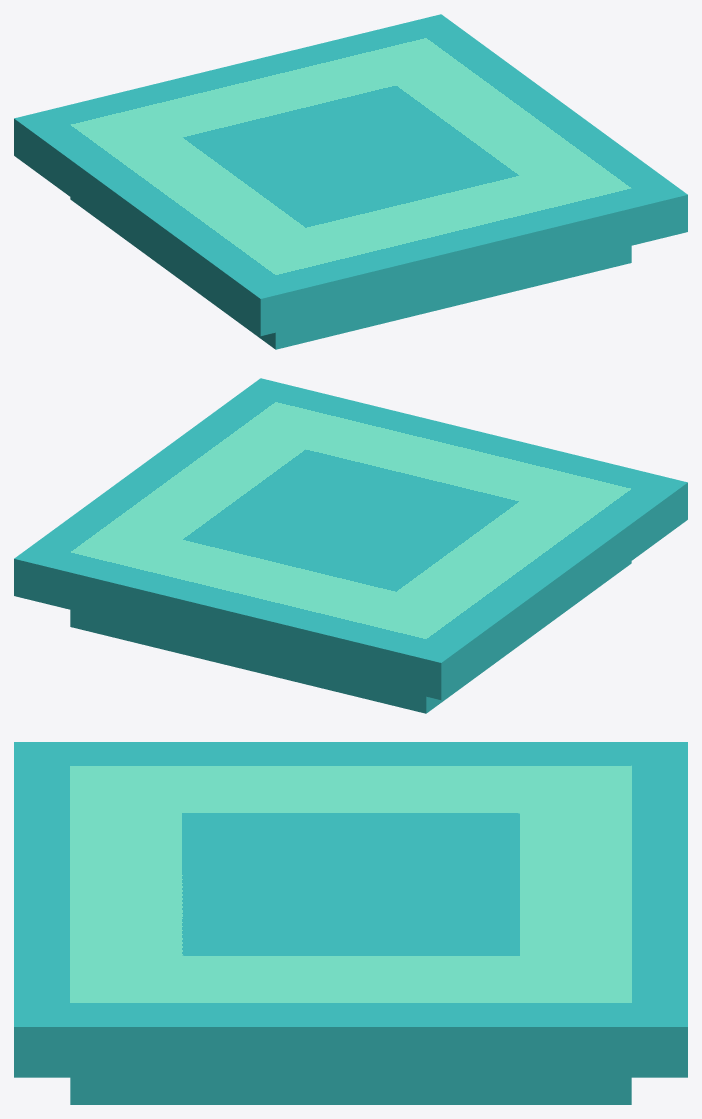
The model's file is PlatoAzulAsset.fbx.
3 views of the same model, one above another, from view 1: azimuth 30°, elevation 25°; view 2: azimuth 150°, elevation 25°; view 3: azimuth 270°, elevation 25° (orthographic). The views are drawn at different scales.
Parts seen in each view (by area): view 1: PlatoAzul; view 2: PlatoAzul; view 3: PlatoAzul.
Part boxes in pixels (x1,y1,x2,y2): PlatoAzul: (14, 14, 687, 349); PlatoAzul: (14, 378, 687, 713); PlatoAzul: (14, 742, 687, 1104).
Bounding box in the file's own units: 1.2 × 1.2 × 0.2.
